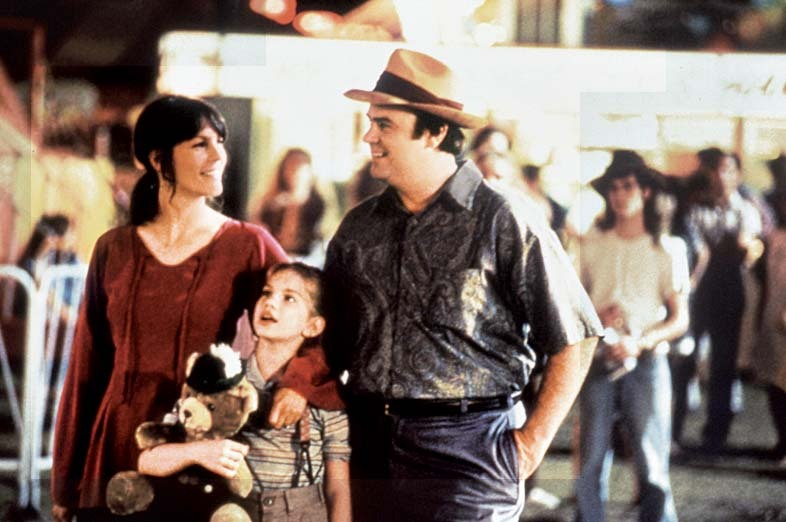11: (241, 258, 319, 348)
20: (708, 151, 741, 197)
25: (157, 104, 232, 206)
27: (601, 165, 644, 221)
45: (352, 82, 433, 191)
Belt: (340, 391, 529, 420)
Dress: (51, 212, 349, 522), (233, 351, 354, 522)
EarRing: (146, 169, 176, 193)
Female: (157, 104, 232, 206), (241, 258, 319, 348), (601, 165, 644, 221), (708, 151, 741, 197)
Hat: (331, 42, 487, 135), (586, 143, 670, 197), (183, 343, 251, 397)
Male: (352, 82, 433, 191)
Pants: (345, 401, 536, 522), (574, 350, 680, 522)
Shirt: (324, 160, 603, 403), (577, 233, 692, 356)
